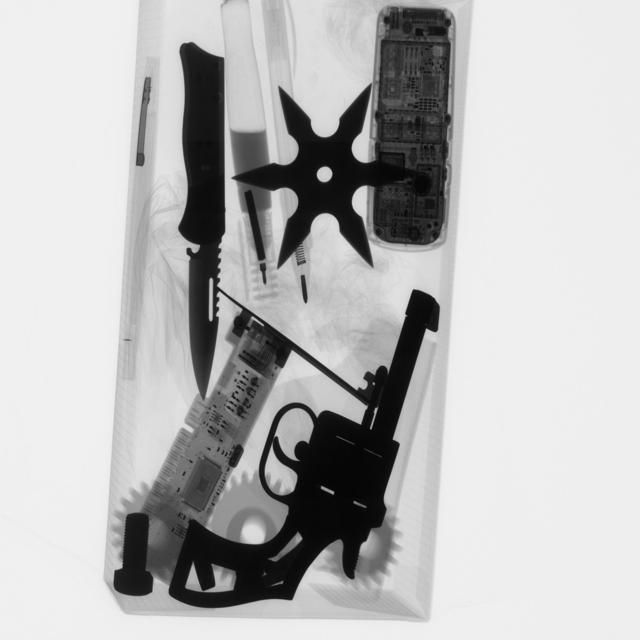gun: (168, 290, 448, 608)
knife: (172, 39, 228, 414)
shuriken: (226, 75, 421, 278)
